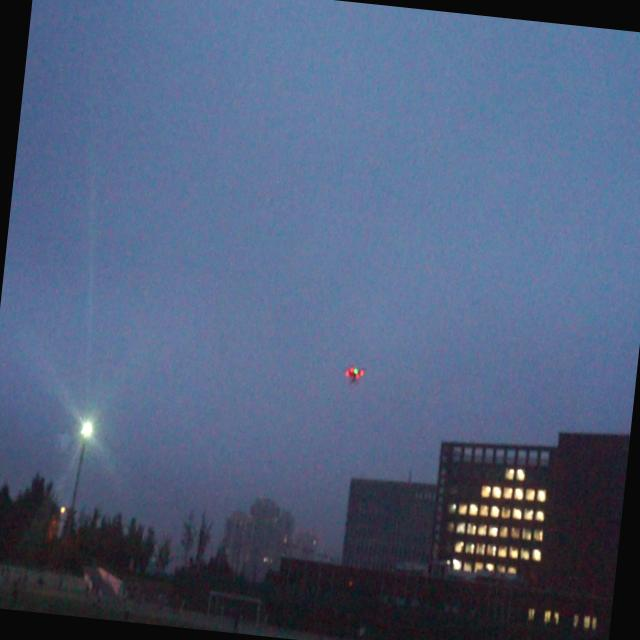drone: (342, 362, 368, 388)
